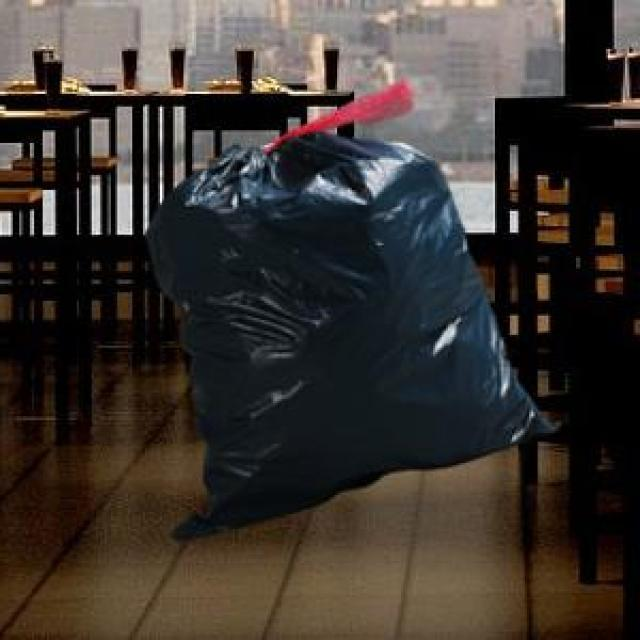Trashbag: (110, 94, 588, 566)
